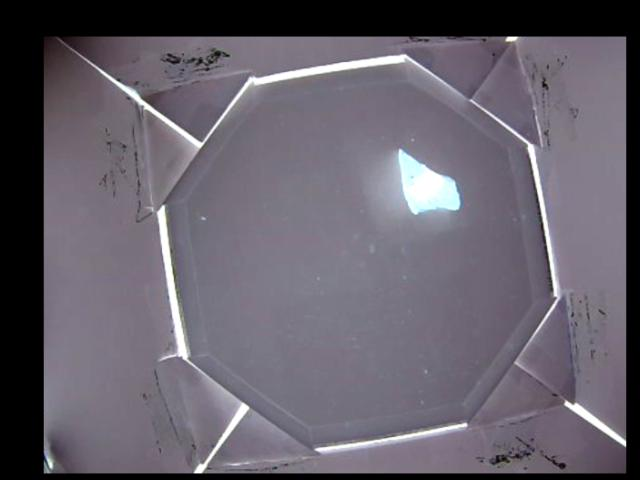Brisk: (397, 148, 459, 214)
